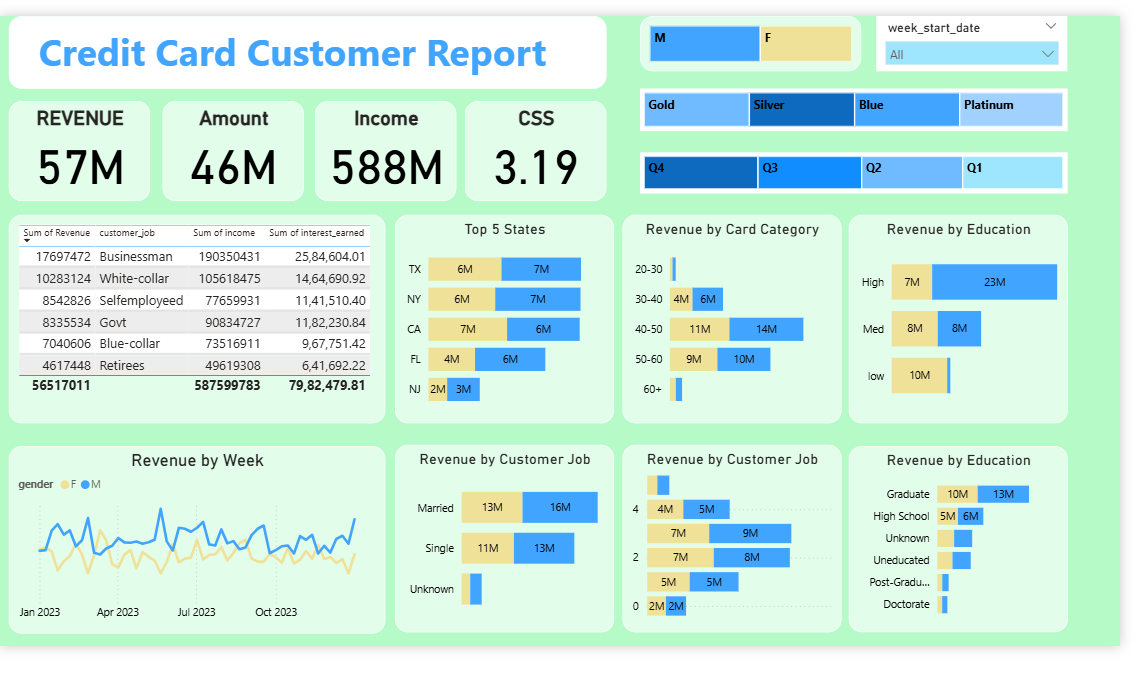

The page's visual inventory and layout, read from the dashboard file:
{"tool":"powerbi","page":{"name":"Customer","canvas":[1280,720],"ordinal":1},"visuals":[{"type":"textbox","box":[10,0,682.9,82.9],"z":0},{"type":"barChart","title":"Revenue by Education","fields":{"Y":["Sum(public cc_detail.Revenue)"],"Category":["public cust_detail.IncomeGroup"],"Series":["public cust_detail.gender"]},"box":[970,227.1,250,238.6],"z":1000},{"type":"barChart","title":"Revenue by Customer Job","fields":{"Y":["Sum(public cc_detail.Revenue)"],"Category":["public cust_detail.dependent_count"],"Series":["public cust_detail.gender"]},"box":[711.4,490,250,214.3],"z":2000},{"type":"barChart","title":"Revenue by Card Category","fields":{"Y":["Sum(public cc_detail.Revenue)"],"Category":["public cust_detail.AgeGroup"],"Series":["public cust_detail.gender"]},"box":[711.4,227.1,250,238.6],"z":3000},{"type":"tableEx","fields":{"Values":["Sum(public cc_detail.Revenue)","public cust_detail.customer_job","Sum(public cust_detail.income)","Sum(public cc_detail.interest_earned)"]},"box":[10,227.1,430,238.6],"z":4000},{"type":"card","title":"REVENUE","fields":{"Values":["Sum(public cc_detail.Revenue)"]},"box":[9.7,97.7,161.7,114.6],"z":5000},{"type":"card","title":"Amount","fields":{"Values":["Sum(public cc_detail.total_trans_amt)"]},"box":[185.8,97.7,161.7,114.6],"z":6000},{"type":"card","title":"Income","fields":{"Values":["Sum(public cust_detail.income)"]},"box":[359.5,97.7,161.7,114.6],"z":7000},{"type":"card","title":"CSS","fields":{"Values":["Avg(public cust_detail.cust_satisfaction_score)"]},"box":[532,97.7,161.7,114.6],"z":8000},{"type":"slicer","fields":{"Values":["public cc_detail.week_start_date"]},"box":[1001.4,0,218.6,62.9],"z":9000},{"type":"treemap","fields":{"Group":["public cc_detail.qtr"],"Values":["Avg(public cc_detail.client_num)"]},"box":[731.4,155.7,488.6,47.1],"z":10000},{"type":"treemap","fields":{"Values":["Avg(public cc_detail.client_num)"],"Group":["public cc_detail.card_category"]},"box":[731.4,82.9,488.6,48.6],"z":11000},{"type":"lineChart","title":" Revenue by Week","fields":{"Y":["Sum(public cc_detail.Revenue)"],"Series":["public cust_detail.gender"],"Category":["public cc_detail.week_start_date.Variation.Date Hierarchy.Year","public cc_detail.week_start_date.Variation.Date Hierarchy.Month","public cc_detail.week_start_date.Variation.Date Hierarchy.Day"]},"box":[10,491.4,430,214.3],"z":13000},{"type":"treemap","fields":{"Group":["public cust_detail.gender"],"Values":["Sum(public cc_detail.Revenue)"]},"box":[731.4,0,252.9,62.9],"z":14000},{"type":"barChart","title":"Revenue by Education","fields":{"Y":["Sum(public cc_detail.Revenue)"],"Category":["public cust_detail.education_level"],"Series":["public cust_detail.gender"]},"box":[970,491.4,250,212.9],"z":15000},{"type":"barChart","title":"Top 5 States","fields":{"Y":["Sum(public cc_detail.Revenue)"],"Category":["public cust_detail.state_cd"],"Series":["public cust_detail.gender"]},"box":[451.4,227.1,250,238.6],"z":16000},{"type":"barChart","title":"Revenue by Customer Job","fields":{"Y":["Sum(public cc_detail.Revenue)"],"Category":["public cust_detail.marital_status"],"Series":["public cust_detail.gender"]},"box":[451.4,490,250,214.3],"z":17000}]}

Visuals, with their boxes on the page's 1280x720 design canvas (x1, y1, x2, y2). These are canvas units, not pixel positions in the 1140x681 screenshot, which may show the page scaled, cropped or inside an application window:
textbox: <bbox>10, 0, 693, 83</bbox>
"Revenue by Education" barChart: <bbox>970, 227, 1220, 466</bbox>
"Revenue by Customer Job" barChart: <bbox>711, 490, 961, 704</bbox>
"Revenue by Card Category" barChart: <bbox>711, 227, 961, 466</bbox>
tableEx - Sum(public cc_detail.Revenue) x public cust_detail.customer_job: <bbox>10, 227, 440, 466</bbox>
"REVENUE" card: <bbox>10, 98, 171, 212</bbox>
"Amount" card: <bbox>186, 98, 348, 212</bbox>
"Income" card: <bbox>360, 98, 521, 212</bbox>
"CSS" card: <bbox>532, 98, 694, 212</bbox>
slicer - public cc_detail.week_start_date: <bbox>1001, 0, 1220, 63</bbox>
treemap - public cc_detail.qtr x Avg(public cc_detail.client_num): <bbox>731, 156, 1220, 203</bbox>
treemap - Avg(public cc_detail.client_num) x public cc_detail.card_category: <bbox>731, 83, 1220, 132</bbox>
" Revenue by Week" lineChart: <bbox>10, 491, 440, 706</bbox>
treemap - public cust_detail.gender x Sum(public cc_detail.Revenue): <bbox>731, 0, 984, 63</bbox>
"Revenue by Education" barChart: <bbox>970, 491, 1220, 704</bbox>
"Top 5 States" barChart: <bbox>451, 227, 701, 466</bbox>
"Revenue by Customer Job" barChart: <bbox>451, 490, 701, 704</bbox>
